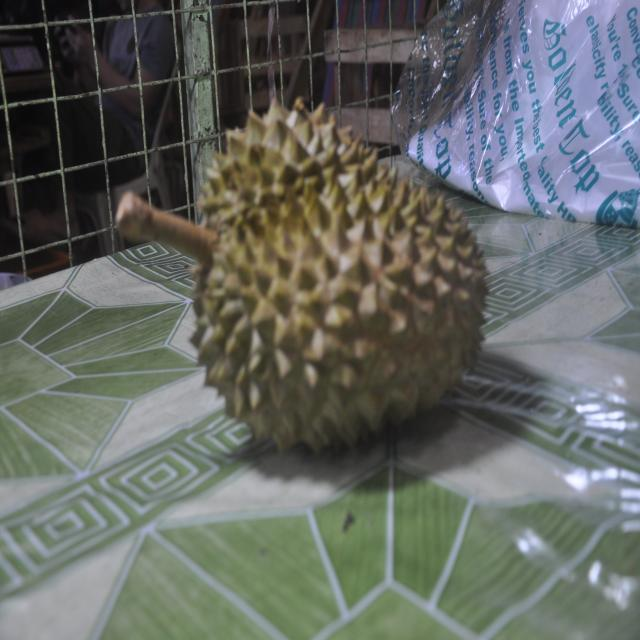mature: (117, 98, 486, 452)
